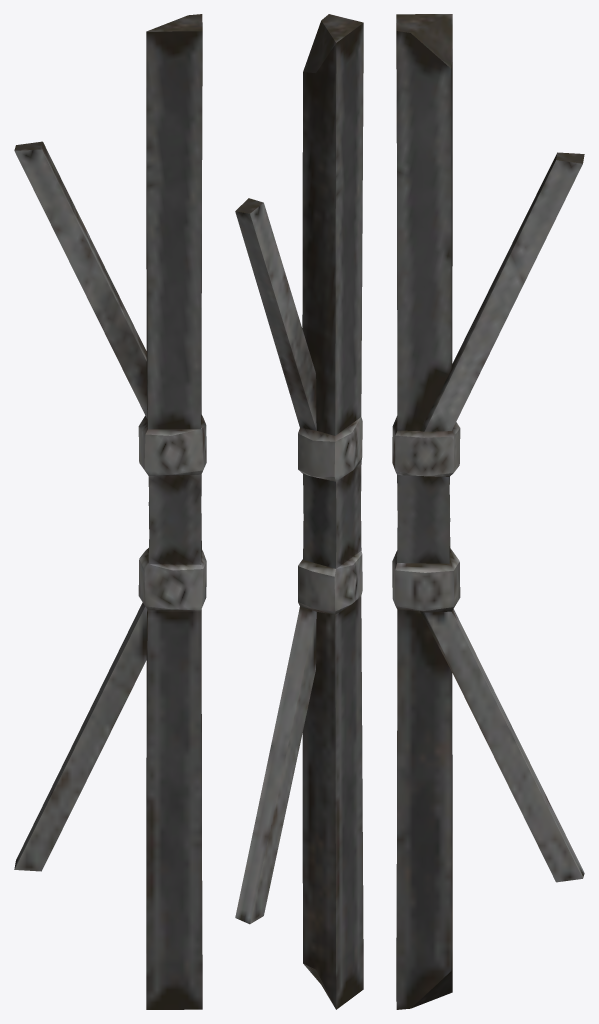
File: plane_wreckage_metalpart_01.dae
The picture shows the model from 3 angles, left to right: view 1: azimuth 90°, elevation 25°; view 2: azimuth 150°, elevation 25°; view 3: azimuth 270°, elevation 25°; orthographic projection.
Parts seen in each view (by area): view 1: plane_wreckage_metalpart_01; view 2: plane_wreckage_metalpart_01; view 3: plane_wreckage_metalpart_01.
Boxes of the visible parts, bbox=[...] form: plane_wreckage_metalpart_01: bbox=[14, 14, 206, 1009]; plane_wreckage_metalpart_01: bbox=[235, 14, 363, 1009]; plane_wreckage_metalpart_01: bbox=[392, 14, 584, 1009].
Bounding box in the file's own units: 7.11 × 140 × 24.97.
